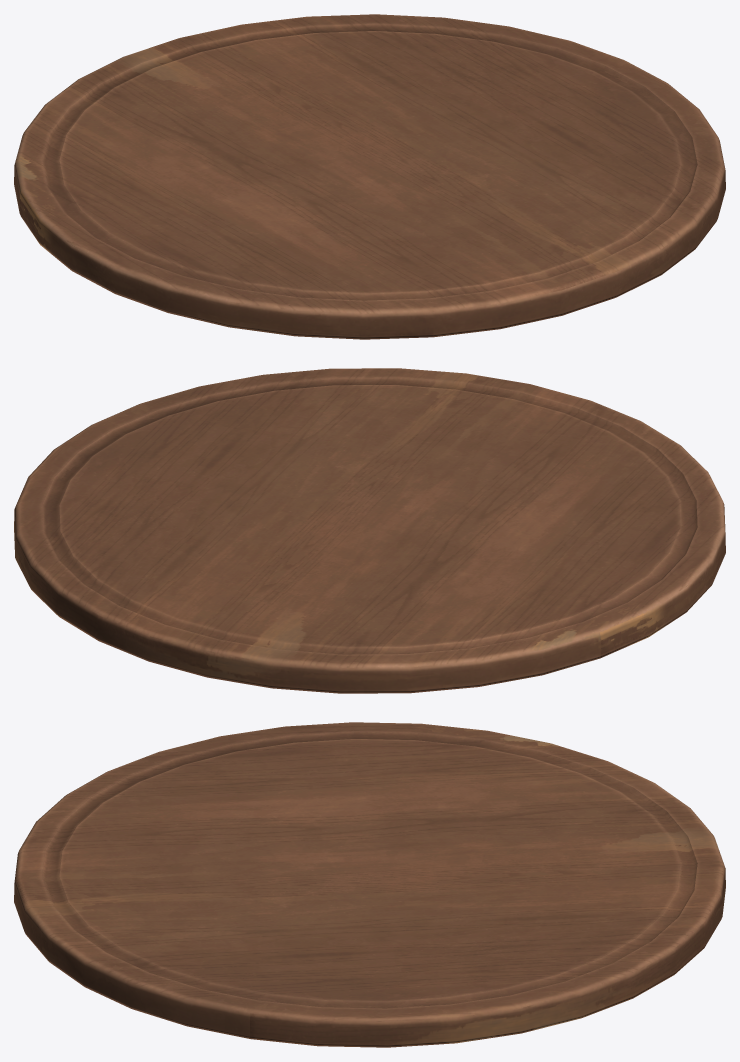
The model's file is SM_BreakfastProps_Plate.fbx.
3 renders of one model, top to bottom at view 1: azimuth 30°, elevation 25°; view 2: azimuth 150°, elevation 25°; view 3: azimuth 270°, elevation 25°, orthographic.
Parts seen in each view (by area): view 1: SM_BreakfastProps_Plate_LOD0; view 2: SM_BreakfastProps_Plate_LOD0; view 3: SM_BreakfastProps_Plate_LOD0.
Part boxes in pixels (x1,y1,x2,y2): SM_BreakfastProps_Plate_LOD0: [14, 14, 725, 339]; SM_BreakfastProps_Plate_LOD0: [14, 368, 725, 693]; SM_BreakfastProps_Plate_LOD0: [14, 722, 725, 1047].
Size of the model in its own units: 48.38 by 48.38 by 2.08.
1 material, 1 textured.
